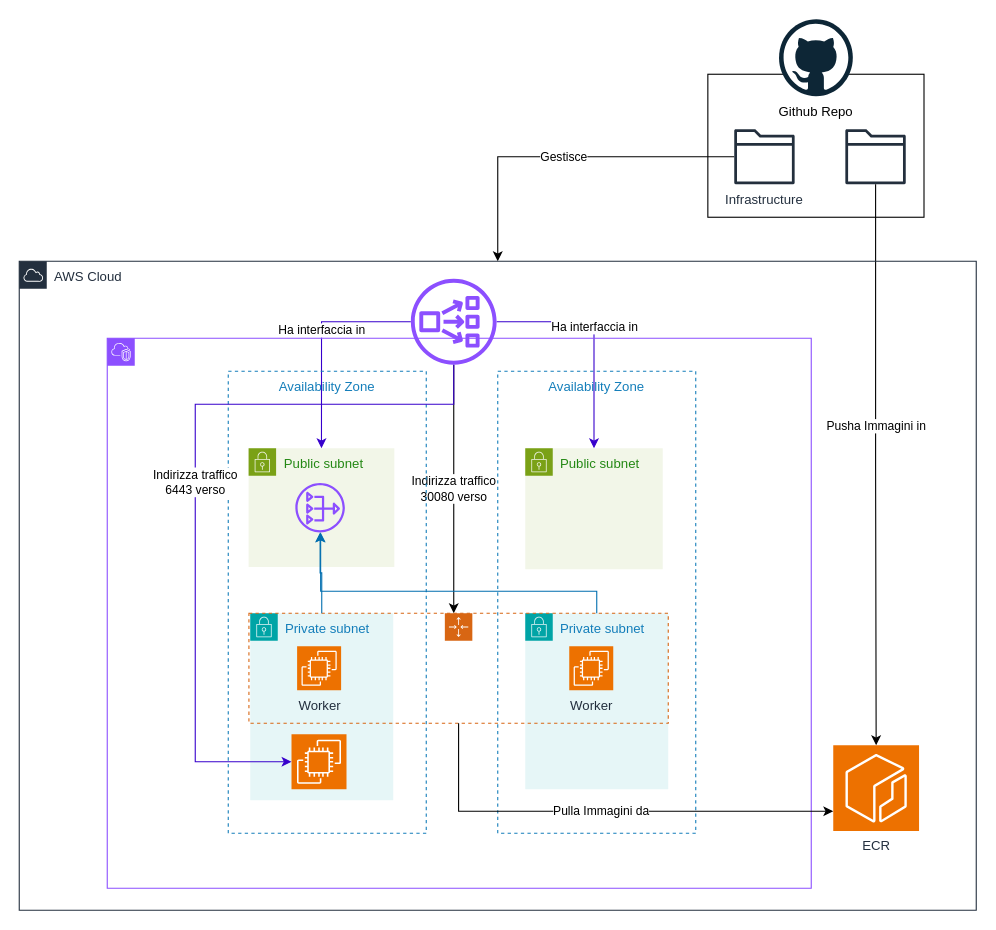
Some shapes in this 996 by 930 pixel diagram are drawn without their labels. Each missing label, with the box of its shape:
App: (845, 129, 905, 184)
Auto Scaling group: (248, 612, 668, 723)
Control plane: (290, 733, 346, 789)
NAT Gateway: (295, 482, 344, 532)
NLB: (410, 278, 496, 364)
VPC: (106, 337, 811, 888)
